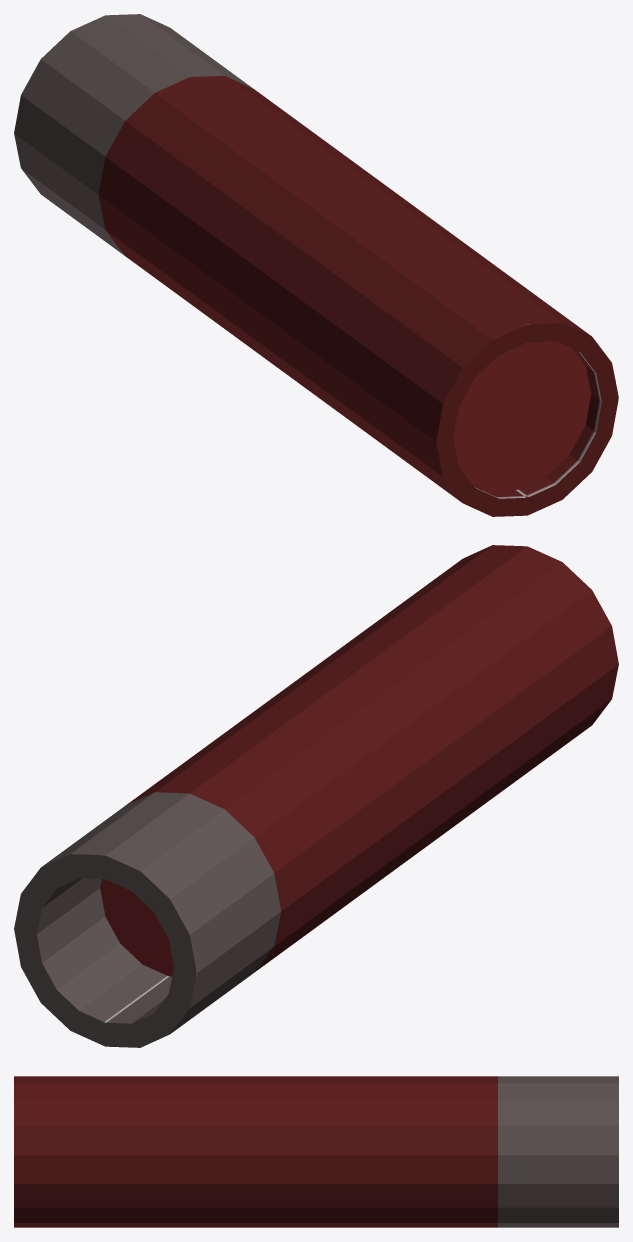
File: skyfire flare.obj
3 views of the same model, one above another, from view 1: azimuth 30°, elevation 25°; view 2: azimuth 150°, elevation 25°; view 3: azimuth 270°, elevation 25° (orthographic). The views are drawn at different scales.
Visible parts, largest first — view 1: unnamed model; view 2: unnamed model; view 3: unnamed model.
Boxes of the visible parts, <box> form: unnamed model: <box>14,14,618,516</box>; unnamed model: <box>14,545,618,1047</box>; unnamed model: <box>14,1076,618,1227</box>.
Size of the model in its own units: 0.0391 by 0.0391 by 0.1563.
